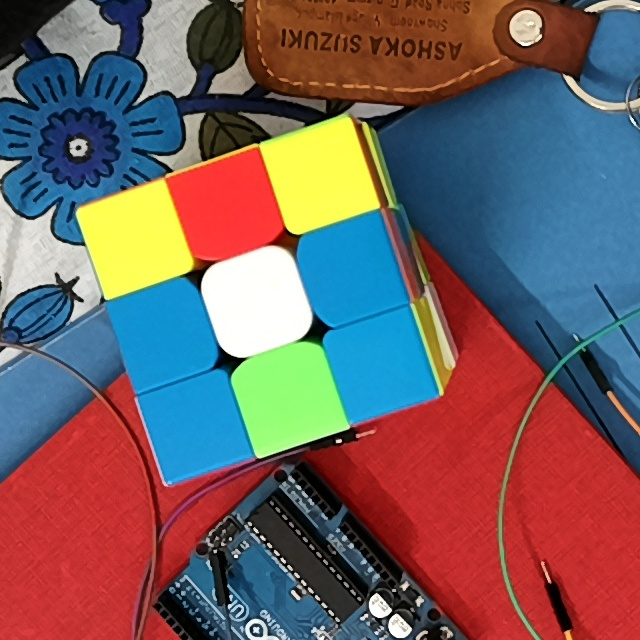tile: (186, 170, 263, 243), (281, 142, 358, 211), (253, 358, 325, 431), (345, 330, 417, 400), (129, 298, 198, 370), (317, 235, 387, 305), (219, 267, 291, 335), (98, 205, 170, 272), (158, 392, 227, 461)
